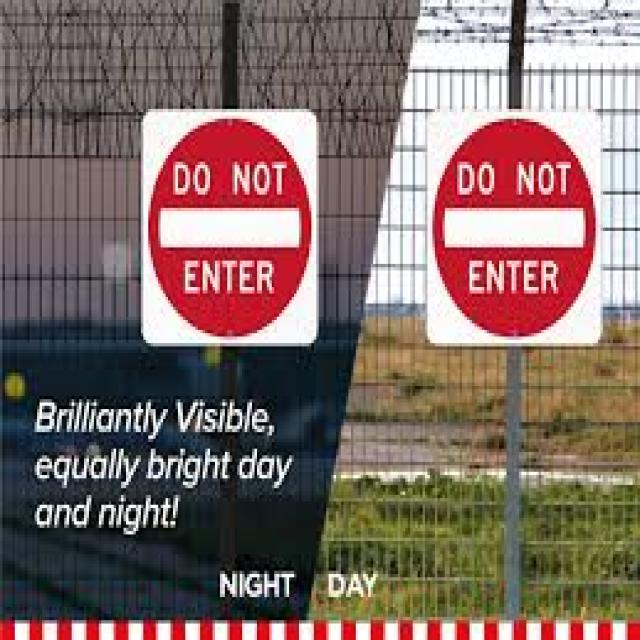doNotEnter: (428, 108, 603, 346), (143, 110, 319, 343)
